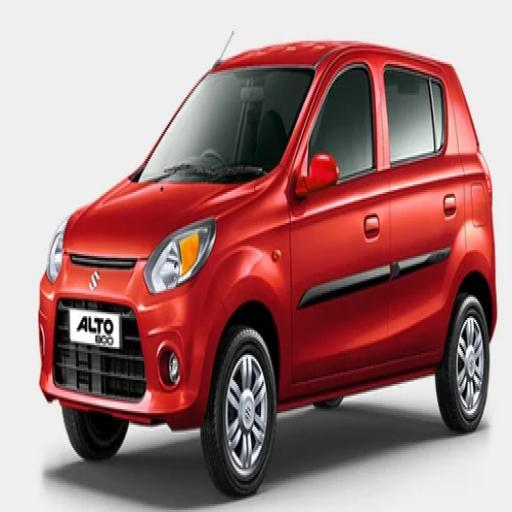License: (68, 305, 125, 353)
